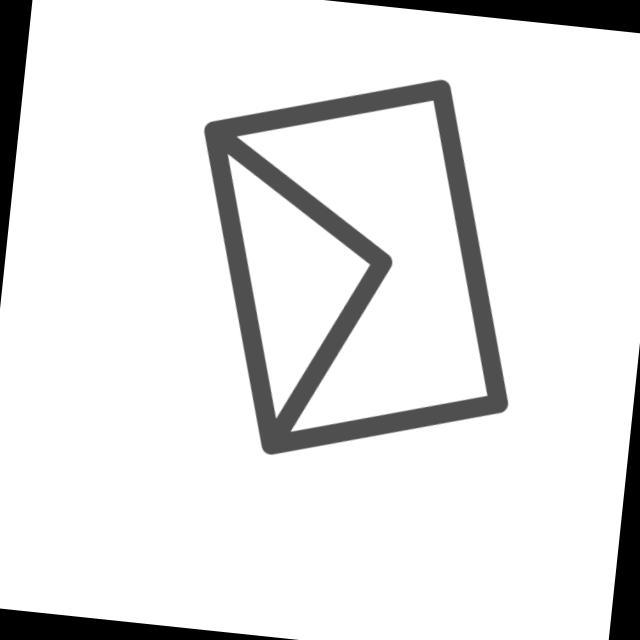letter: (166, 53, 550, 485)
